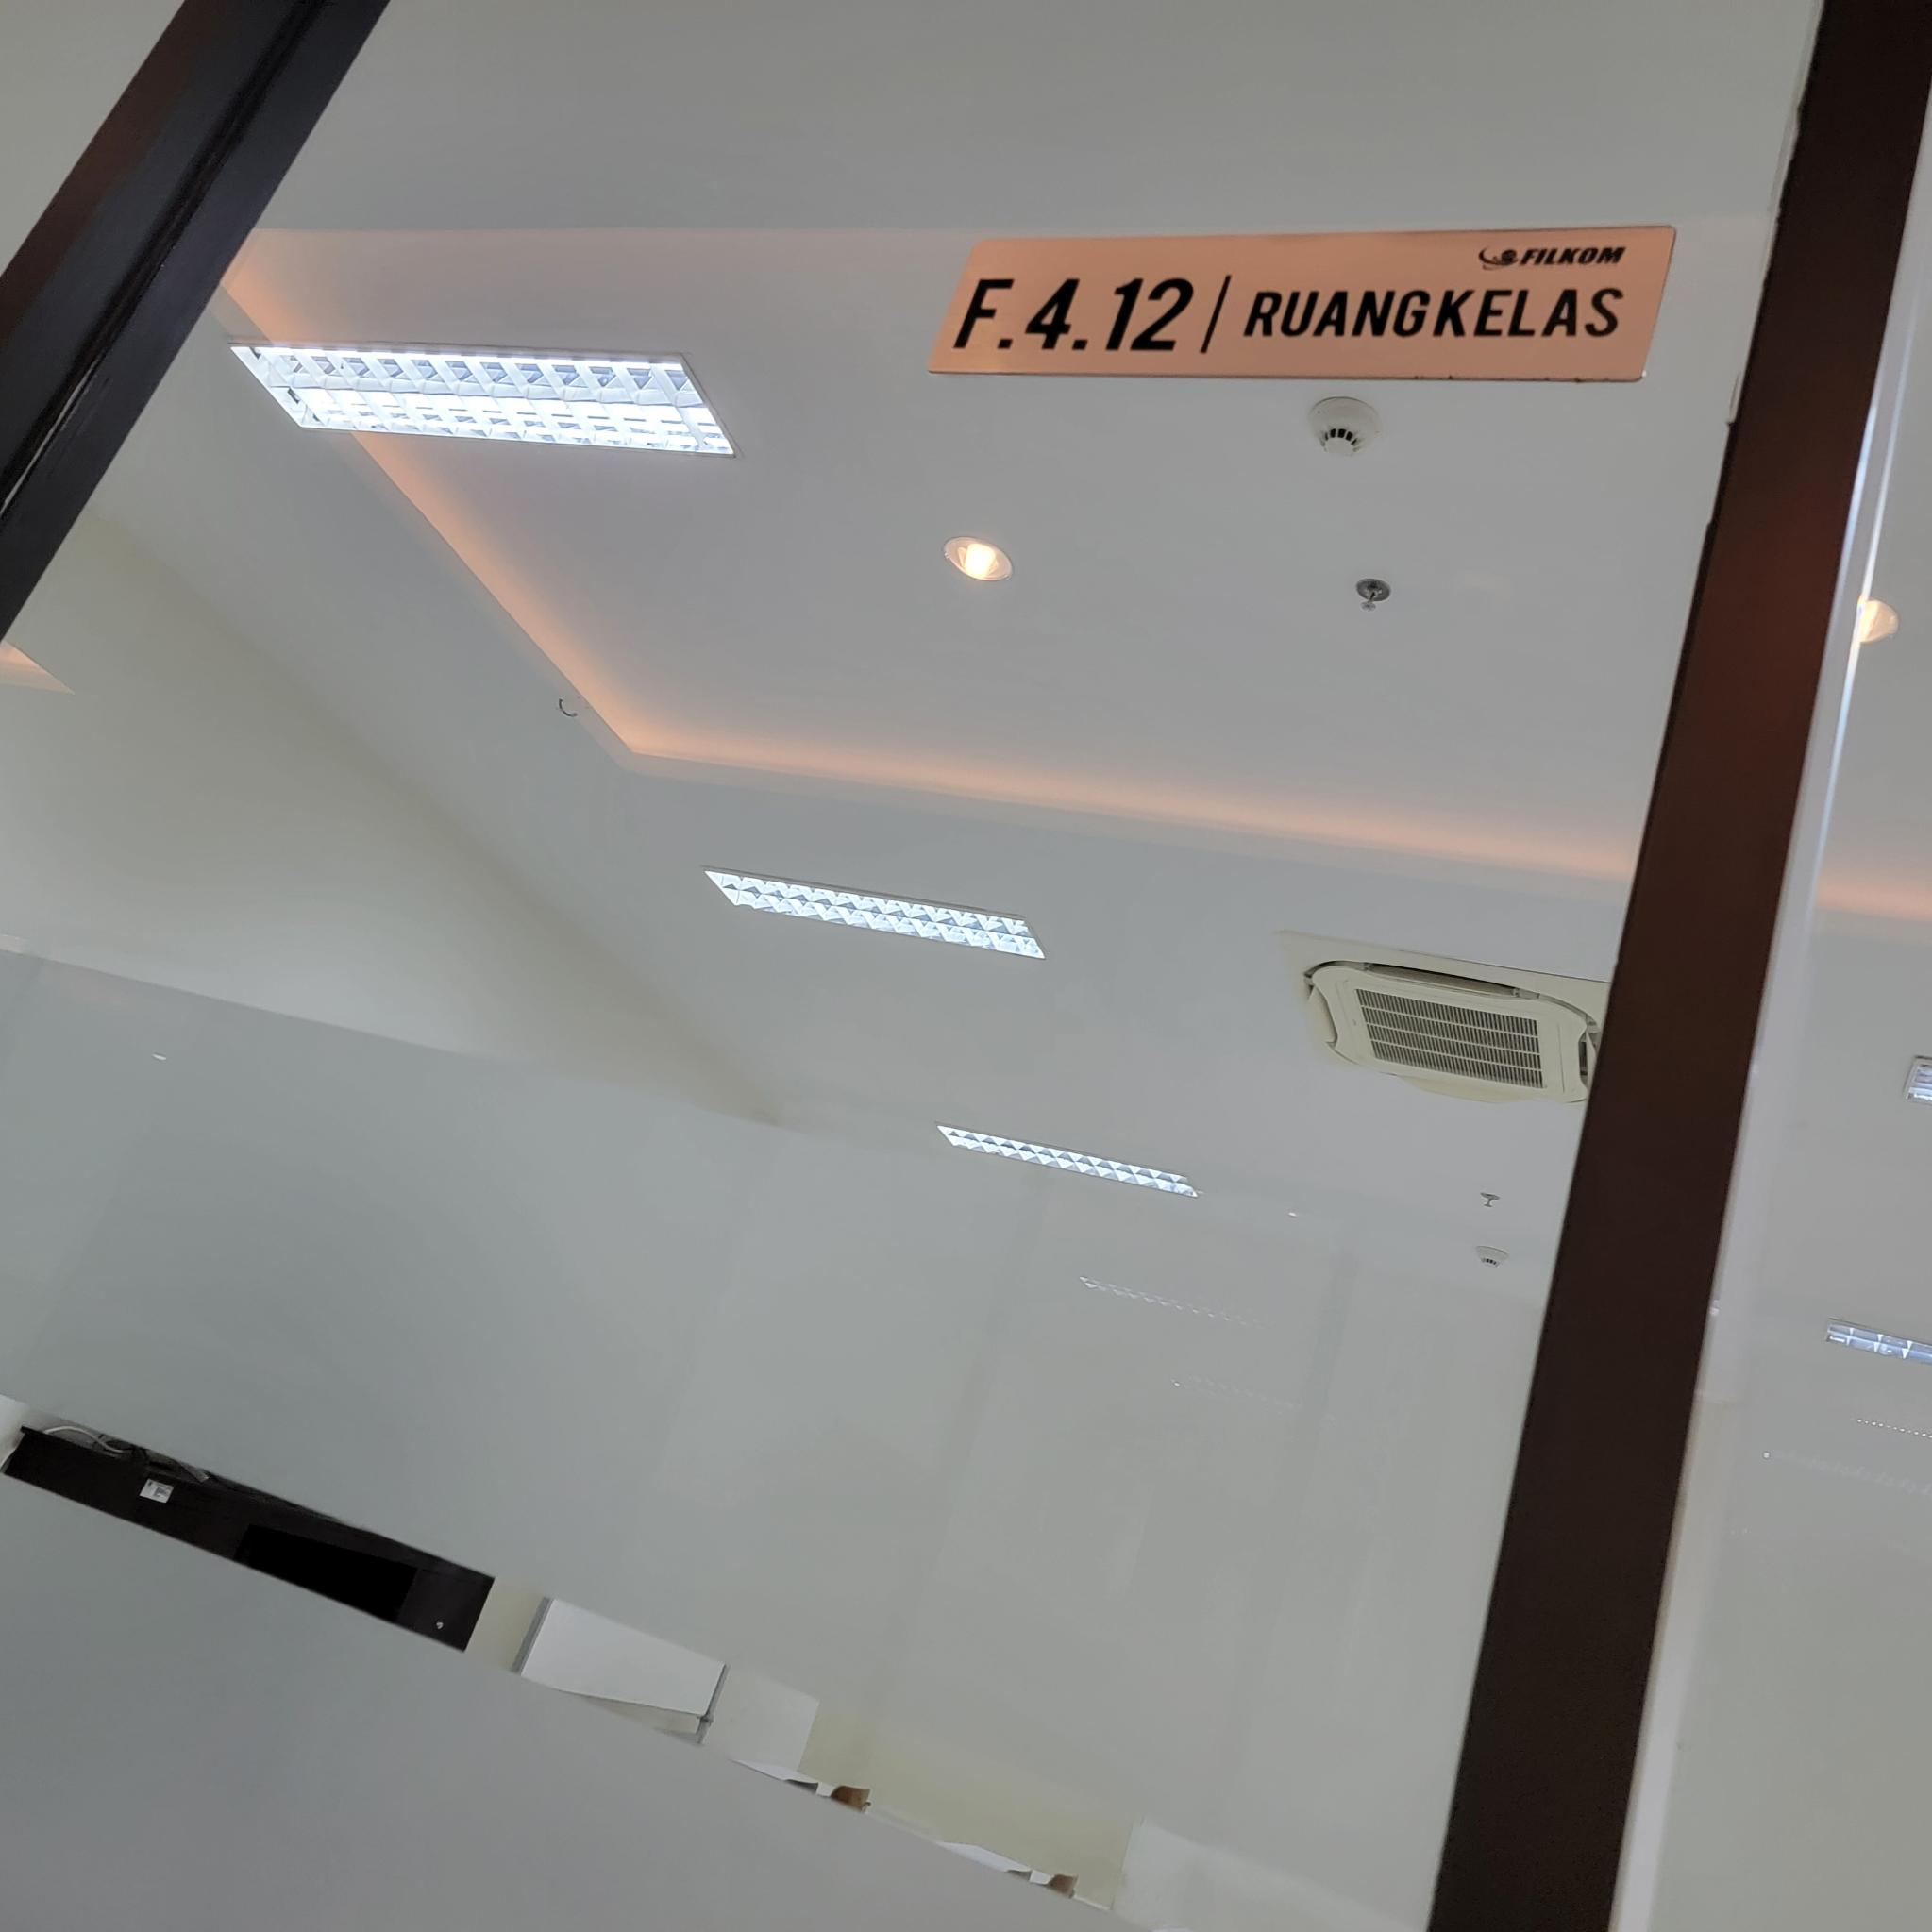plate: (927, 228, 1679, 384)
